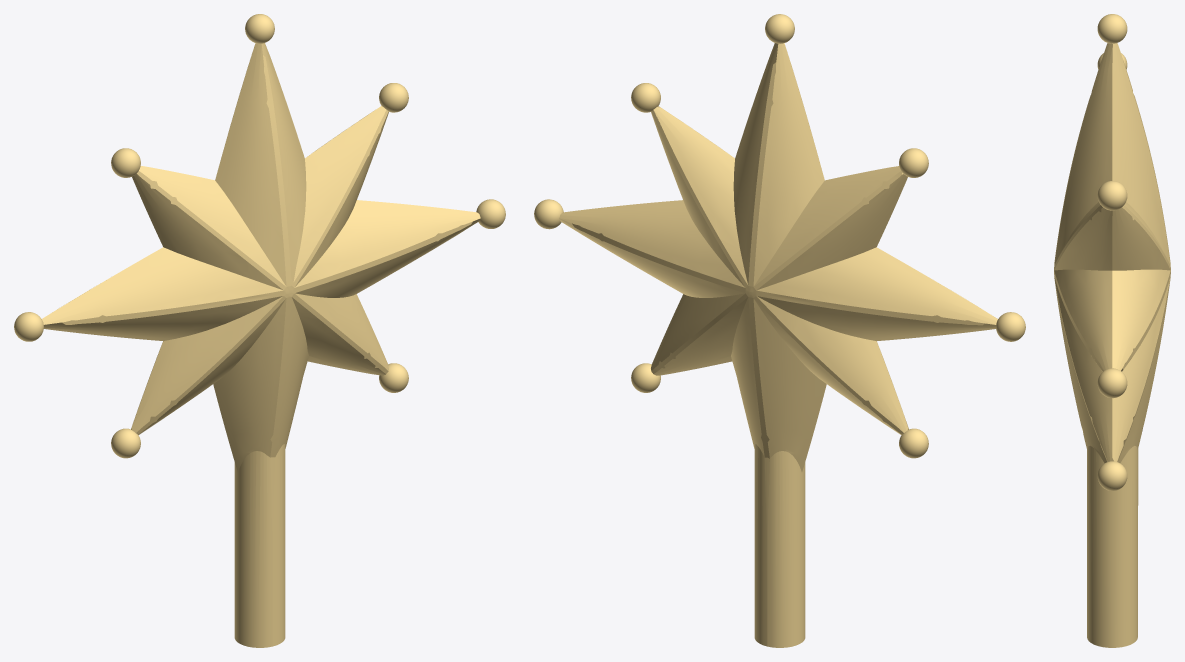
Rendered from gold_glossy_pearls.glb.
3 views of the same model, side by side, from view 1: azimuth 30°, elevation 25°; view 2: azimuth 150°, elevation 25°; view 3: azimuth 270°, elevation 25° (orthographic).
Parts seen in each view (by area): view 1: small_star; view 2: small_star; view 3: small_star.
Boxes of the visible parts, x1,y1,x2,y2 form: small_star: [14, 14, 505, 647]; small_star: [534, 14, 1025, 647]; small_star: [1054, 14, 1170, 647].
Bounding box in the file's own units: 0.1879 × 0.229 × 0.039.
